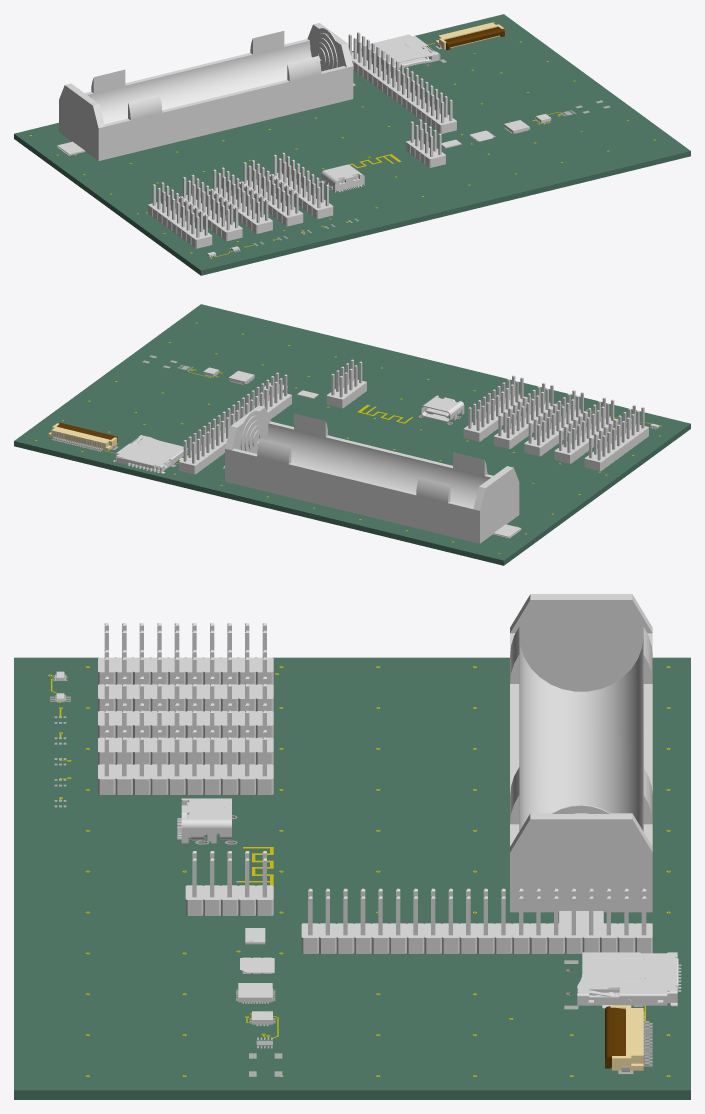
Rendered from ecb_routed.glb.
3 renders of one model, top to bottom at view 1: azimuth 30°, elevation 25°; view 2: azimuth 150°, elevation 25°; view 3: azimuth 270°, elevation 25°, orthographic. The views are drawn at different scales.
Parts seen in each view (by area): view 1: =>[0:1:1:18], BT1, J_B2B, J_M1, J_M2, J_M4, J_M3, J_M5, J_SD, J3, J1, lock (+3 smaller); view 2: =>[0:1:1:18], BT1, J_B2B, J_M1, J_M3, J_M5, J_M2, J_M4, J_SD, J3, J1, body (+2 smaller); view 3: =>[0:1:1:18], BT1, J_B2B, J_M5, J_SD, J_M4, J_M1, J_M3, J_M2, J3, J1, =>[0:1:1:16] (+3 smaller).
Part boxes in pixels (x1,y1,x2,y2): =>[0:1:1:18]: [14, 14, 690, 275]; BT1: [57, 23, 355, 160]; J_B2B: [348, 32, 456, 133]; J_M1: [148, 182, 212, 248]; J_M2: [179, 175, 242, 241]; J_M4: [239, 160, 303, 226]; J_M3: [209, 167, 272, 233]; J_M5: [269, 152, 333, 218]; J_SD: [366, 34, 440, 70]; J3: [406, 119, 445, 167]; J1: [321, 164, 364, 192]; lock: [444, 27, 504, 50]; =>[0:1:1:18]: [14, 304, 690, 565]; BT1: [223, 405, 521, 543]; J_B2B: [179, 372, 291, 474]; J_M1: [584, 404, 648, 471]; J_M3: [524, 390, 587, 456]; J_M5: [463, 375, 527, 441]; J_M2: [554, 397, 618, 463]; J_M4: [494, 382, 557, 448]; J_SD: [113, 435, 187, 473]; J3: [326, 359, 366, 408]; J1: [421, 395, 464, 422]; body: [48, 423, 117, 450]; =>[0:1:1:18]: [14, 657, 690, 1099]; BT1: [510, 594, 652, 923]; J_B2B: [301, 888, 652, 953]; J_M5: [98, 730, 273, 794]; J_SD: [577, 952, 681, 1008]; J_M4: [98, 703, 273, 764]; J_M1: [98, 623, 273, 684]; J_M3: [98, 676, 273, 738]; J_M2: [98, 650, 273, 711]; J3: [185, 851, 273, 915]; J1: [177, 798, 231, 843]; =>[0:1:1:16]: [50, 675, 652, 1076].
Size of the model in its own units: 0.1481 by 0.0198 by 0.0979.
